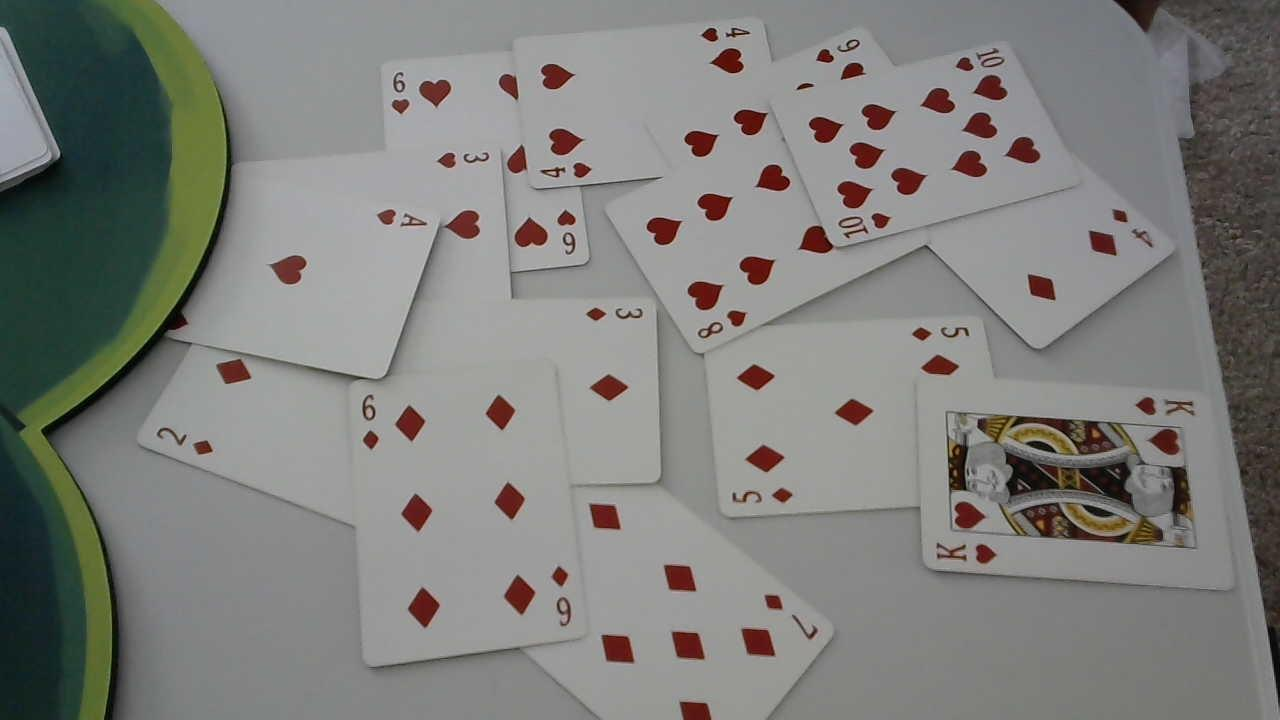10H: (837, 208, 892, 242), (953, 44, 1005, 76)
2D: (153, 424, 216, 458)
3D: (583, 303, 645, 323)
3H: (435, 147, 492, 169)
4D: (1107, 204, 1159, 252)
4H: (535, 161, 597, 180), (697, 25, 751, 43)
5D: (728, 484, 797, 509), (908, 322, 980, 344)
6D: (547, 565, 573, 628), (359, 393, 382, 450)
6H: (554, 206, 578, 258), (388, 69, 413, 118)
7D: (759, 590, 820, 641)
8H: (694, 307, 751, 341)
9H: (813, 32, 862, 66)
AH: (372, 208, 428, 231)
KH: (933, 539, 1001, 569), (1133, 392, 1198, 419)
